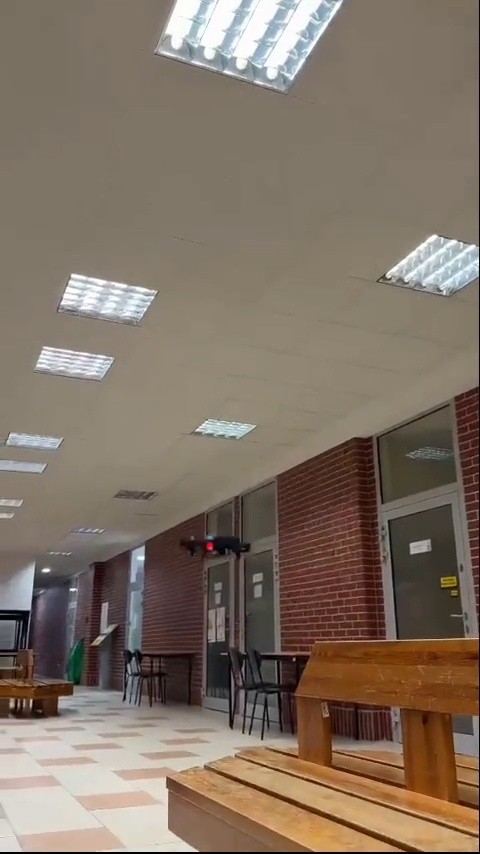drone: (176, 532, 255, 560)
